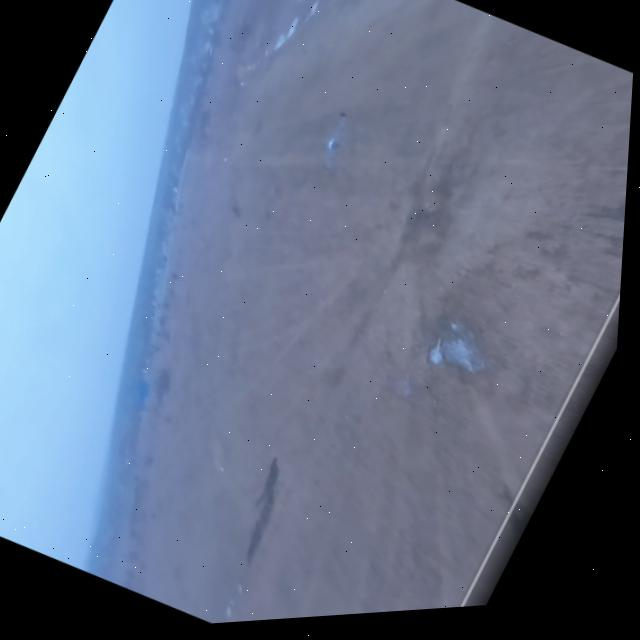planedrone: (310, 107, 365, 181)
